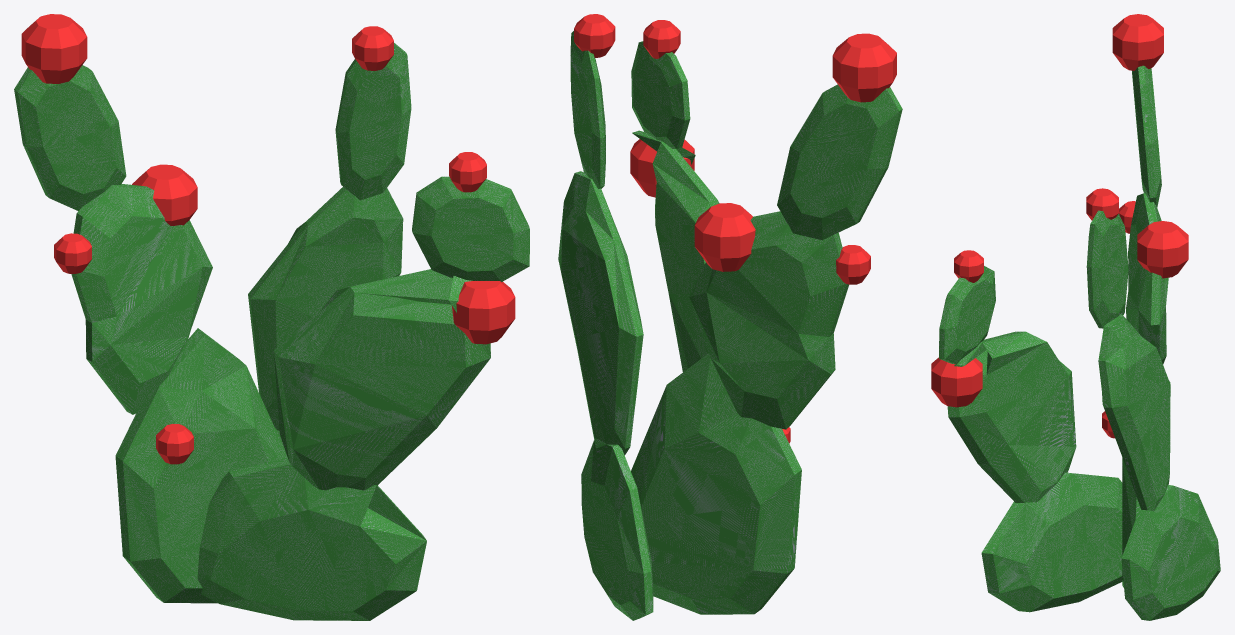
File: Cactus_13.fbx
The picture shows the model from 3 angles, left to right: view 1: azimuth 30°, elevation 25°; view 2: azimuth 150°, elevation 25°; view 3: azimuth 270°, elevation 25°; orthographic projection. The views are drawn at different scales.
Visible parts, largest first — view 1: Model; view 2: Model; view 3: Model.
Part boxes in pixels (box(x1,y1,x2,y2)): Model: box(14, 14, 529, 620); Model: box(558, 14, 902, 620); Model: box(931, 14, 1220, 620).
Bounding box in the file's own units: 151 × 228 × 118.
